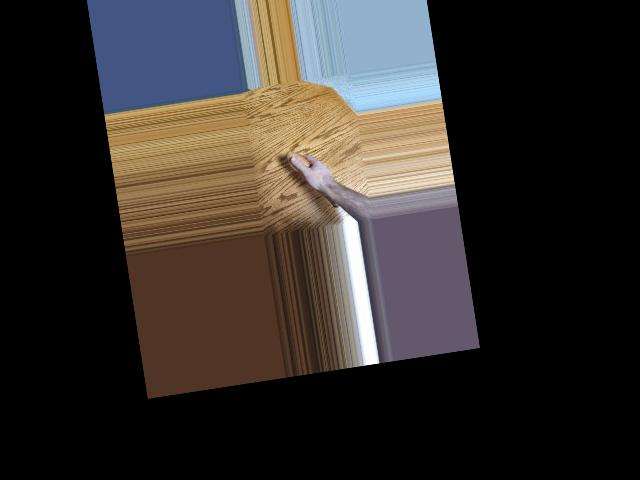sweet_potato: (284, 143, 344, 217)
